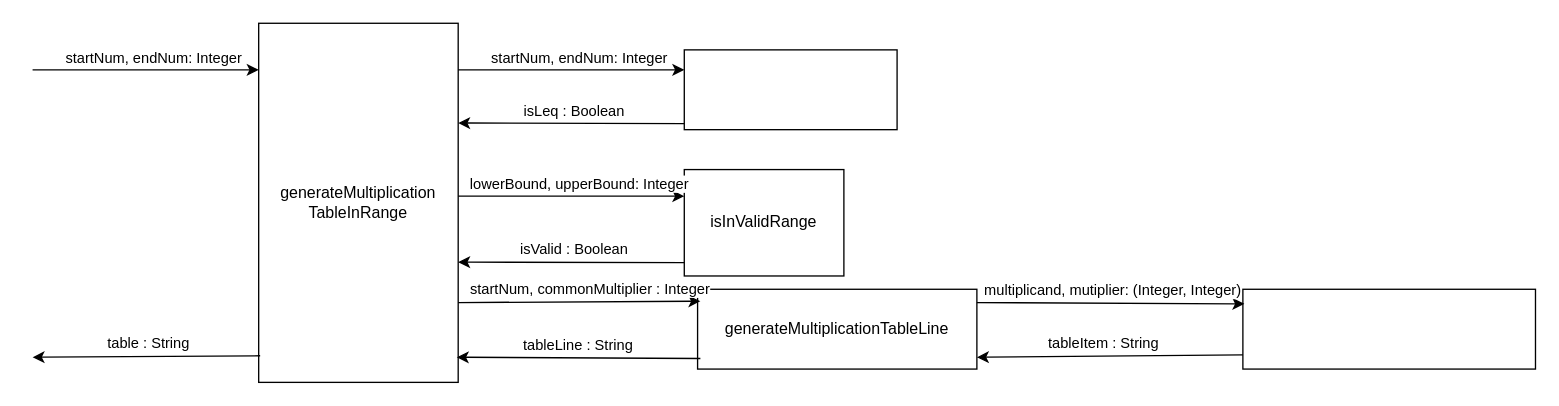
The diagram is 1559 pixels wide and 406 high, and some of its shapes have lost their labels. The shapes that lost their labels are listed below. From the top down, each one's centre as x and y in pixels, then its label:
point 790,89: isStartNumLeqEndNum
point 1388,328: generateMultiplicationTableItem
